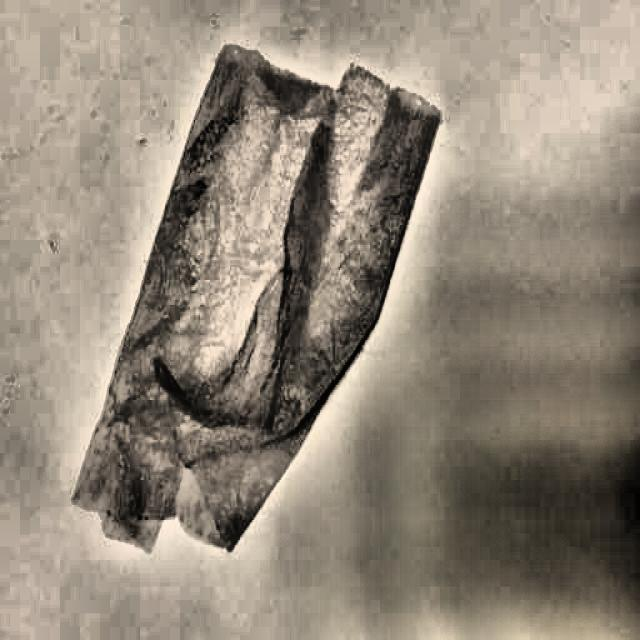paper: (84, 54, 453, 577)
